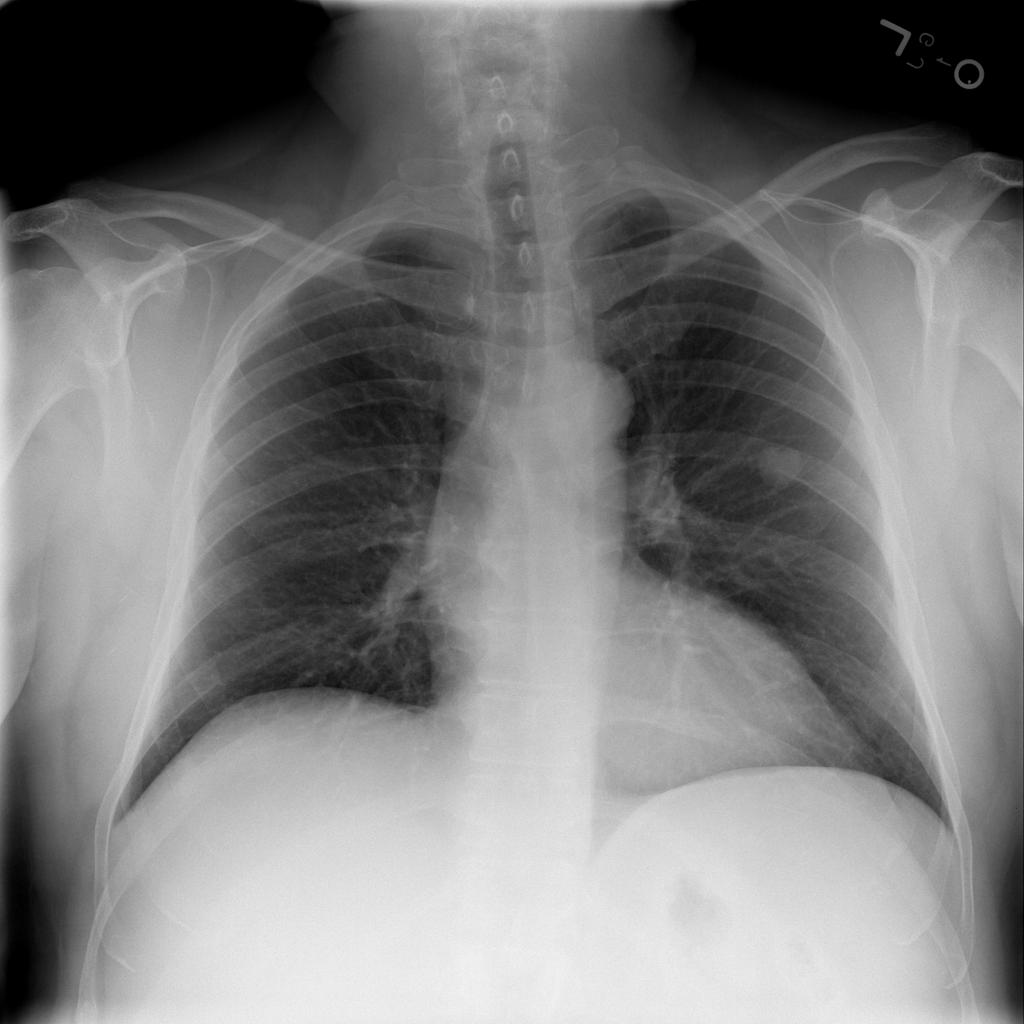nodule: (745, 428, 821, 501)
